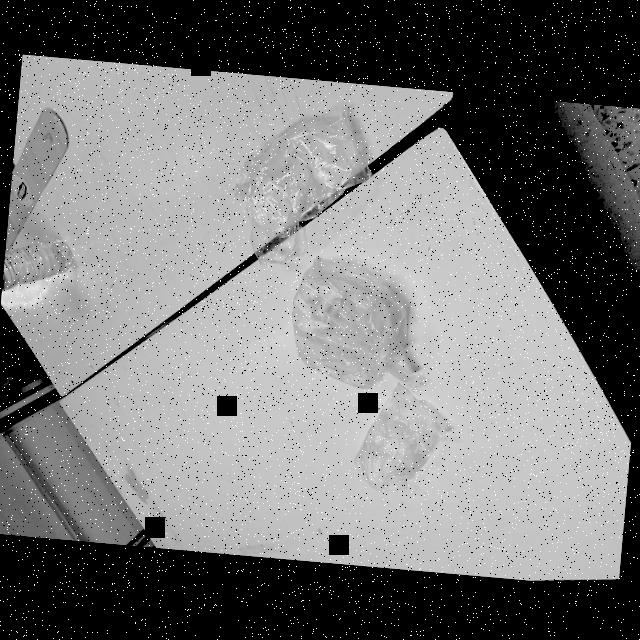plastic_bag: (224, 98, 380, 262), (278, 252, 417, 391), (349, 379, 455, 502)
